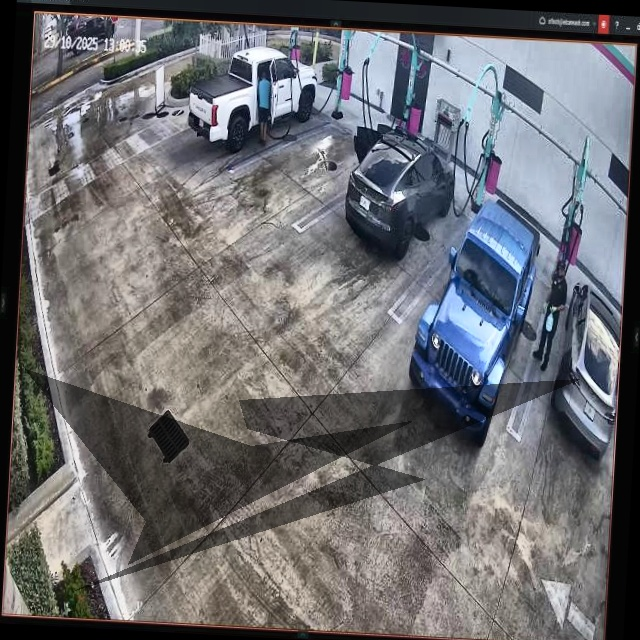Car: (408, 192, 539, 438), (348, 122, 456, 253)
